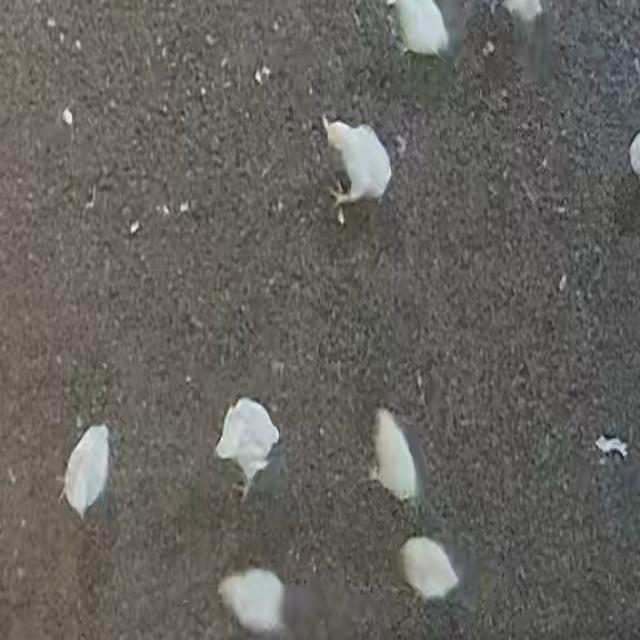chicken: (320, 112, 393, 208), (214, 396, 282, 489), (60, 424, 115, 522), (370, 406, 424, 504), (217, 566, 288, 635), (398, 535, 461, 601), (389, 0, 452, 60)
